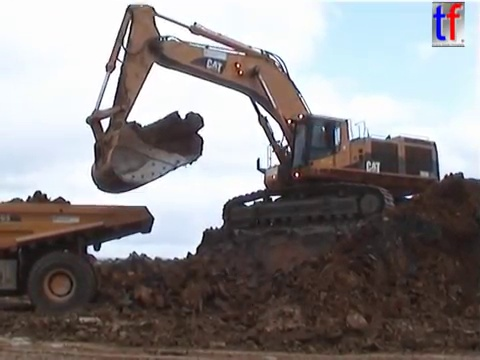excavator: (82, 2, 446, 241)
truck: (1, 199, 158, 322)
